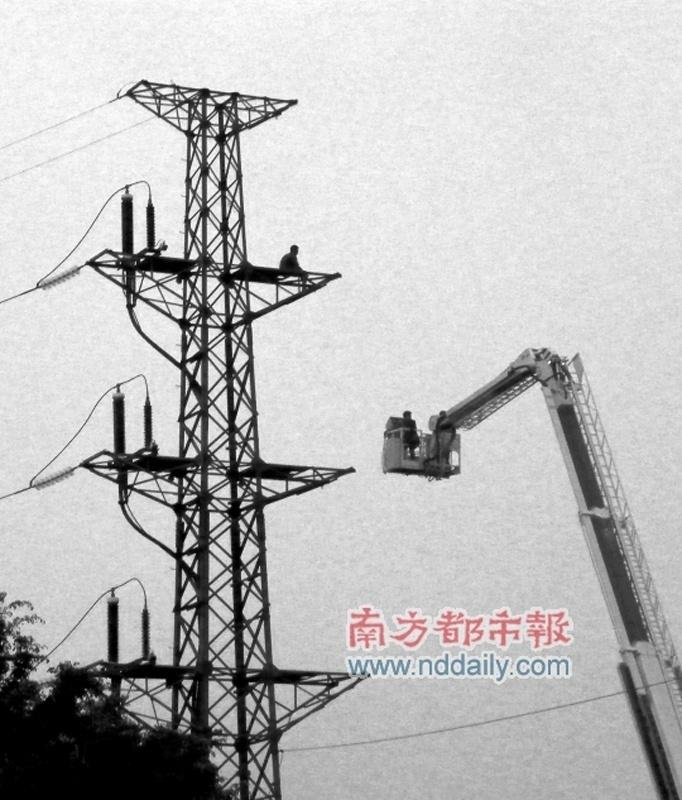power_tower: (109, 64, 331, 663)
